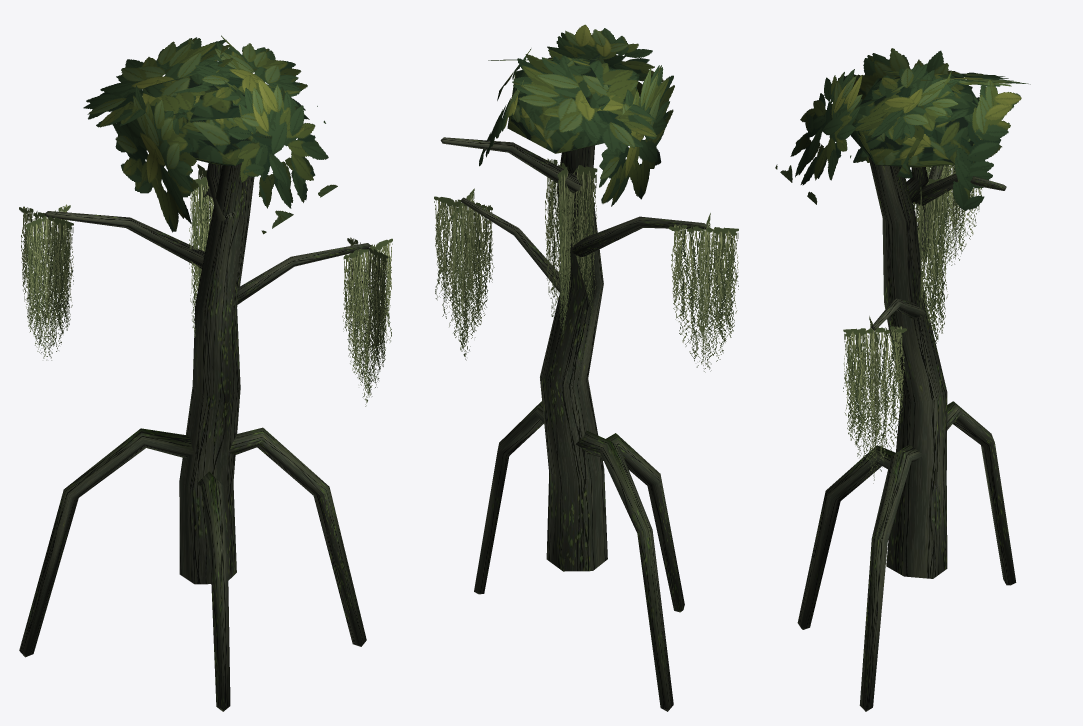
Rendered from mirewell_bog_tree_c_lod1.glb.
3 renders of one model, left to right at view 1: azimuth 30°, elevation 25°; view 2: azimuth 150°, elevation 25°; view 3: azimuth 270°, elevation 25°, orthographic.
Parts seen in each view (by area): view 1: mirewell_bog_tree_c_lod1; view 2: mirewell_bog_tree_c_lod1; view 3: mirewell_bog_tree_c_lod1.
Boxes of the visible parts, <box> form: mirewell_bog_tree_c_lod1: <box>19,35,392,711</box>; mirewell_bog_tree_c_lod1: <box>434,24,738,711</box>; mirewell_bog_tree_c_lod1: <box>775,48,1030,711</box>.
Bounding box in the file's own units: 2.3 × 3.87 × 1.7.
3 materials, 3 textured.
